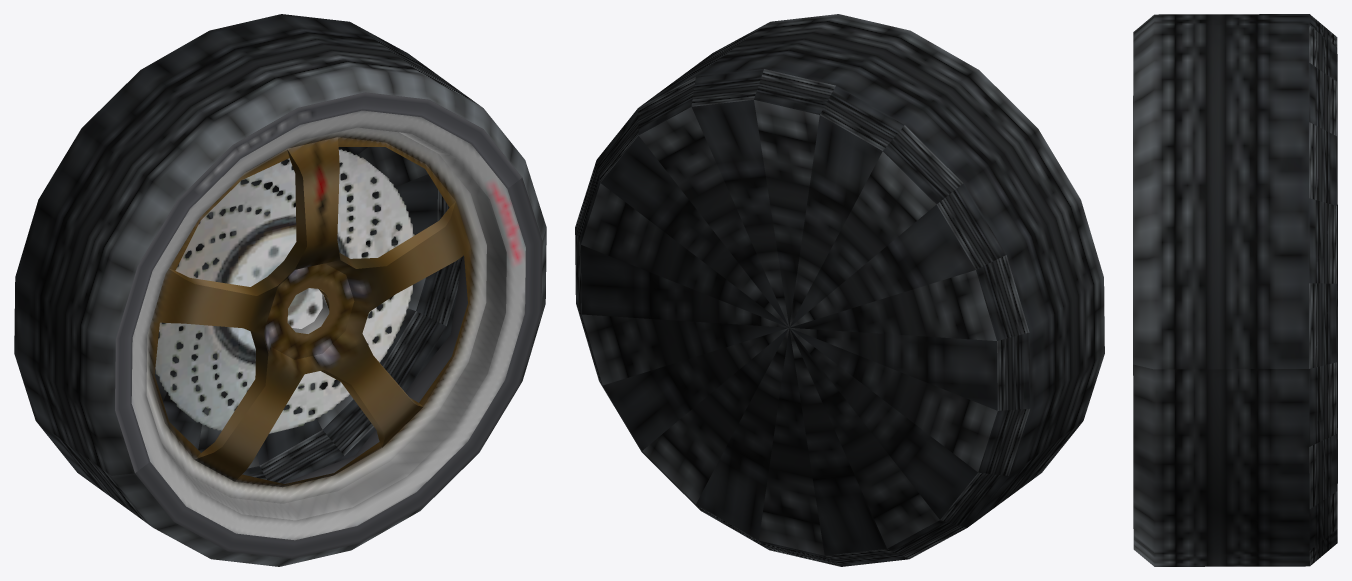
The model's file is 350z_wheel.obj.
3 views of the same model, side by side, from view 1: azimuth 30°, elevation 25°; view 2: azimuth 150°, elevation 25°; view 3: azimuth 270°, elevation 25° (orthographic). The views are drawn at different scales.
Parts seen in each view (by area): view 1: TireFP_rueda; view 2: TireFP_rueda; view 3: TireFP_rueda.
Part boxes in pixels (x1=…): TireFP_rueda: x1=14, y1=14, x2=546, y2=566; TireFP_rueda: x1=575, y1=14, x2=1104, y2=566; TireFP_rueda: x1=1133, y1=14, x2=1337, y2=566.
Size of the model in its own units: 1.95 by 1.97 by 0.7348.
